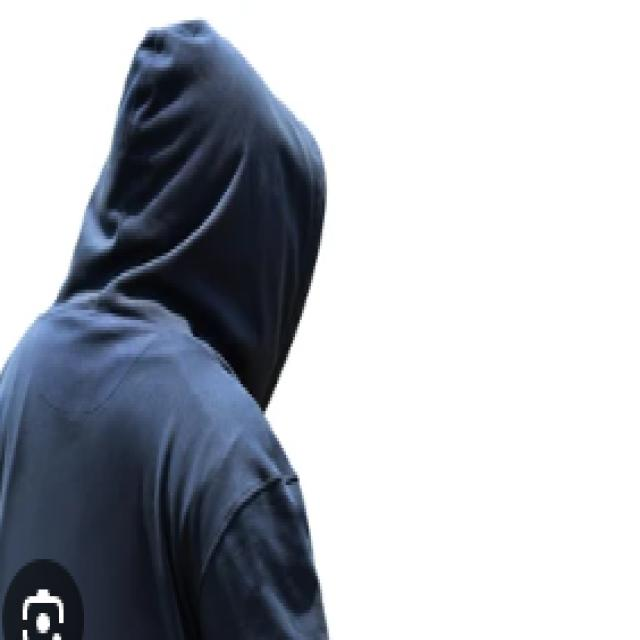4_capucha: (59, 17, 327, 404)
